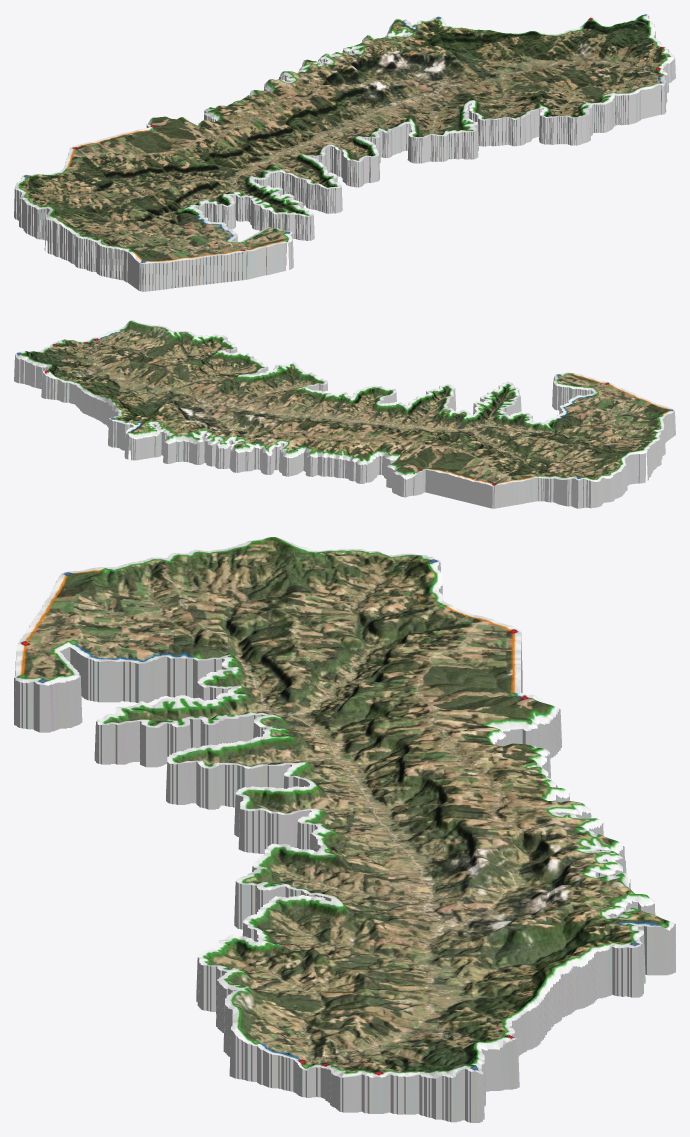
3 views of the same model, one above another, from view 1: azimuth 30°, elevation 25°; view 2: azimuth 150°, elevation 25°; view 3: azimuth 270°, elevation 25° (orthographic). The views are drawn at different scales.
Size of the model in its own units: 1 by 0.0513 by 0.5269.
Materials: 1 (1 with a texture image).
